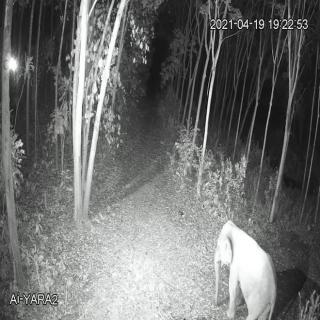Elephant: (210, 214, 276, 320)
